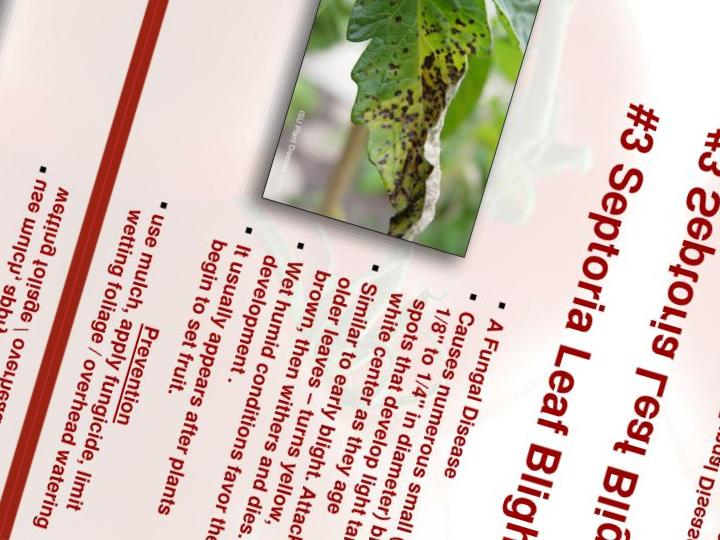Tomato Septoria leaf spot: (284, 0, 507, 243)
